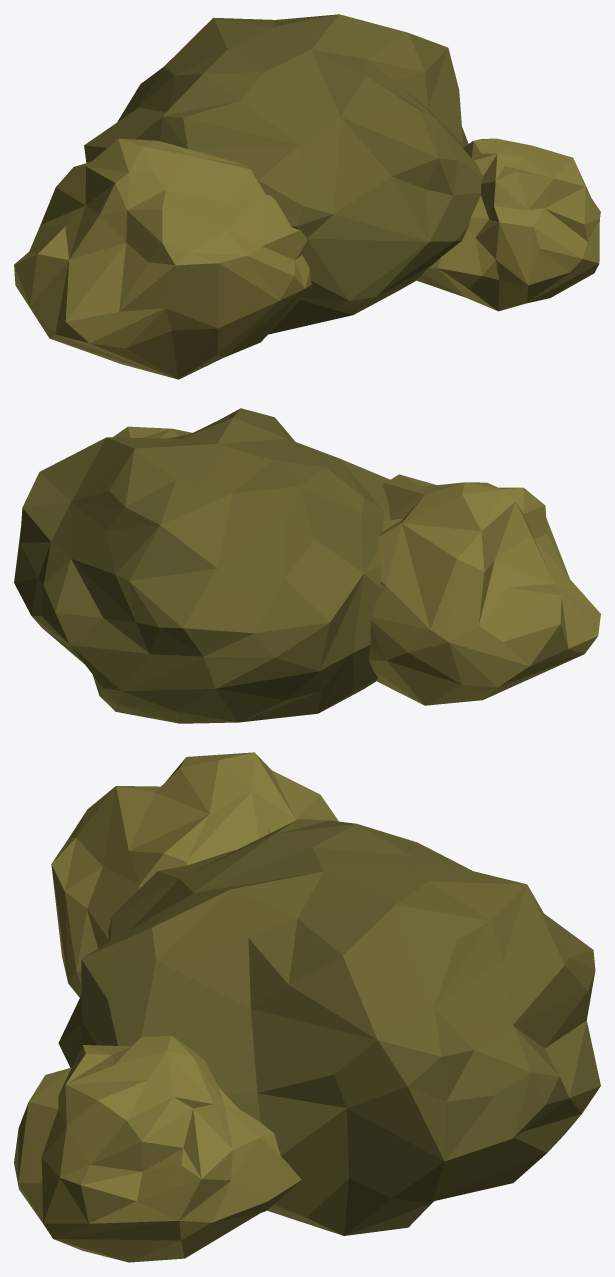
File: bog_bush.gltf
The picture shows the model from 3 angles, top to bottom: view 1: azimuth 30°, elevation 25°; view 2: azimuth 150°, elevation 25°; view 3: azimuth 270°, elevation 25°; orthographic projection. The views are drawn at different scales.
Visible parts, largest first — view 1: bog_bush; view 2: bog_bush; view 3: bog_bush.
Boxes of the visible parts, x1,y1,x2,y2 form: bog_bush: (14,14,600,379); bog_bush: (14,408,600,723); bog_bush: (14,752,600,1262).
Size of the model in its own units: 3.18 by 1.3 by 2.33.
1 material, 1 textured.
